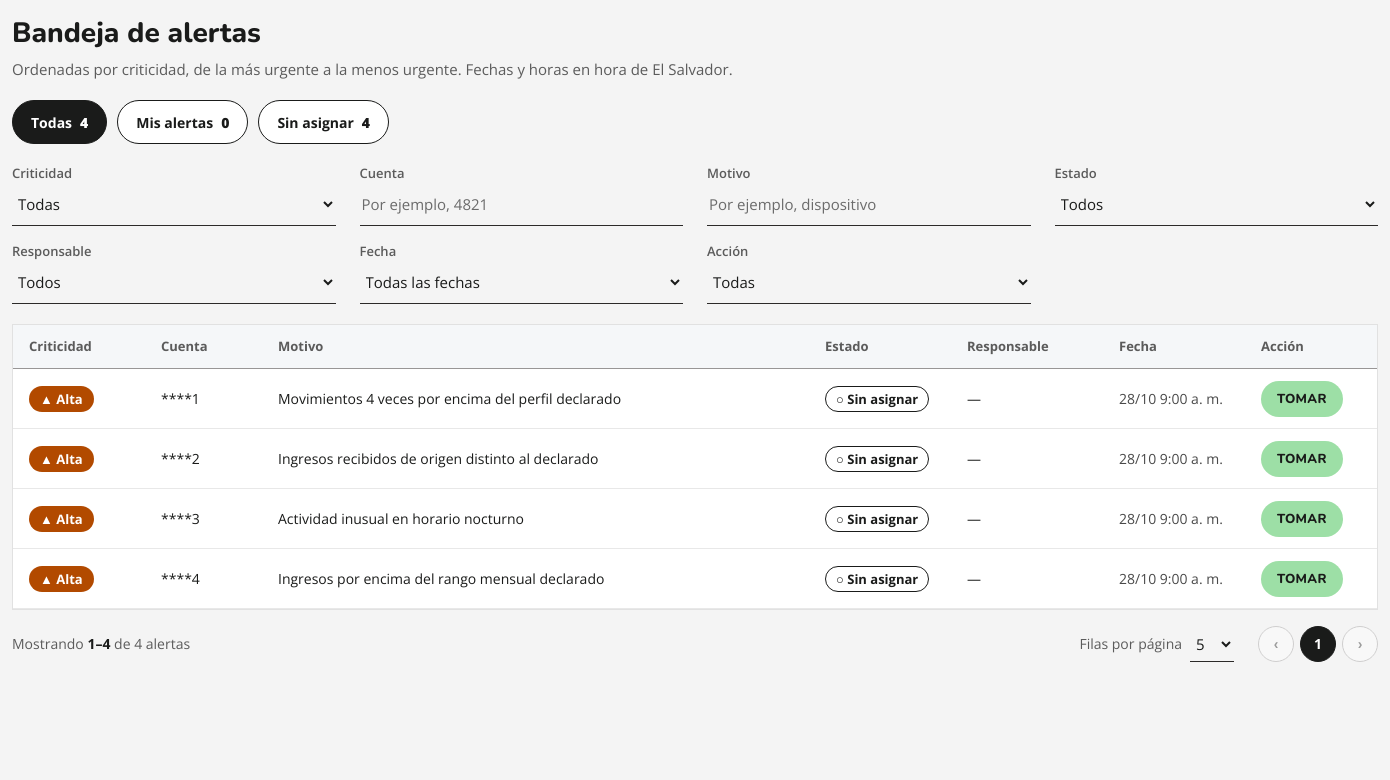
Test: vista previa de la alerta (VDI-138) › mientras el detalle no llega muestra el resumen sin la sección del perfil y sin romperse
Click the button "▲ Alta" next to "****1" at (61, 398), box 29,386 -> 94,412
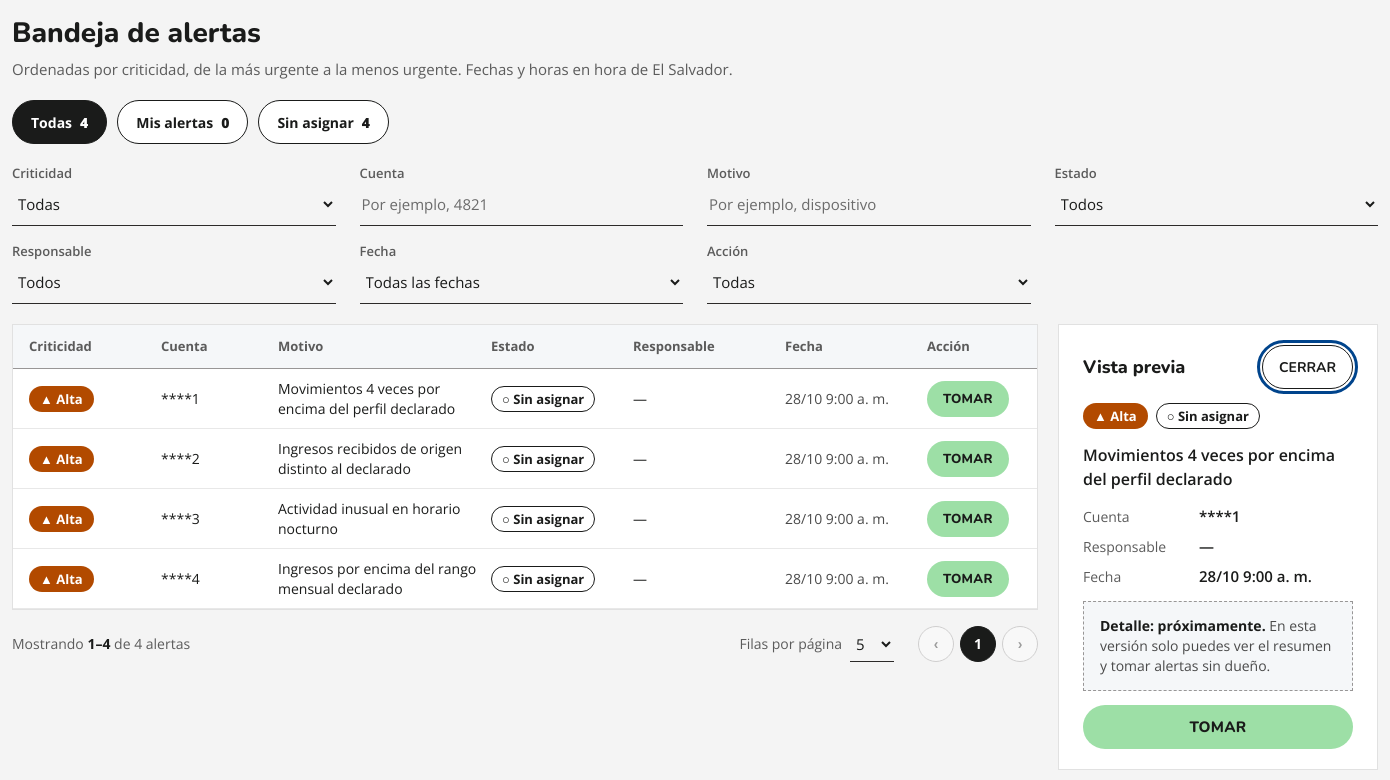
Check: the text "Movimientos 4 veces por encima del perfil declarado" is shown, box 1083,443 -> 1353,491
